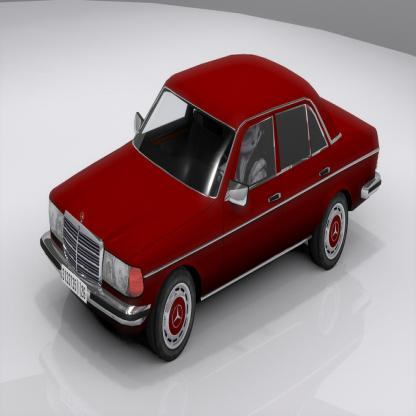Car: (40, 54, 381, 361)
